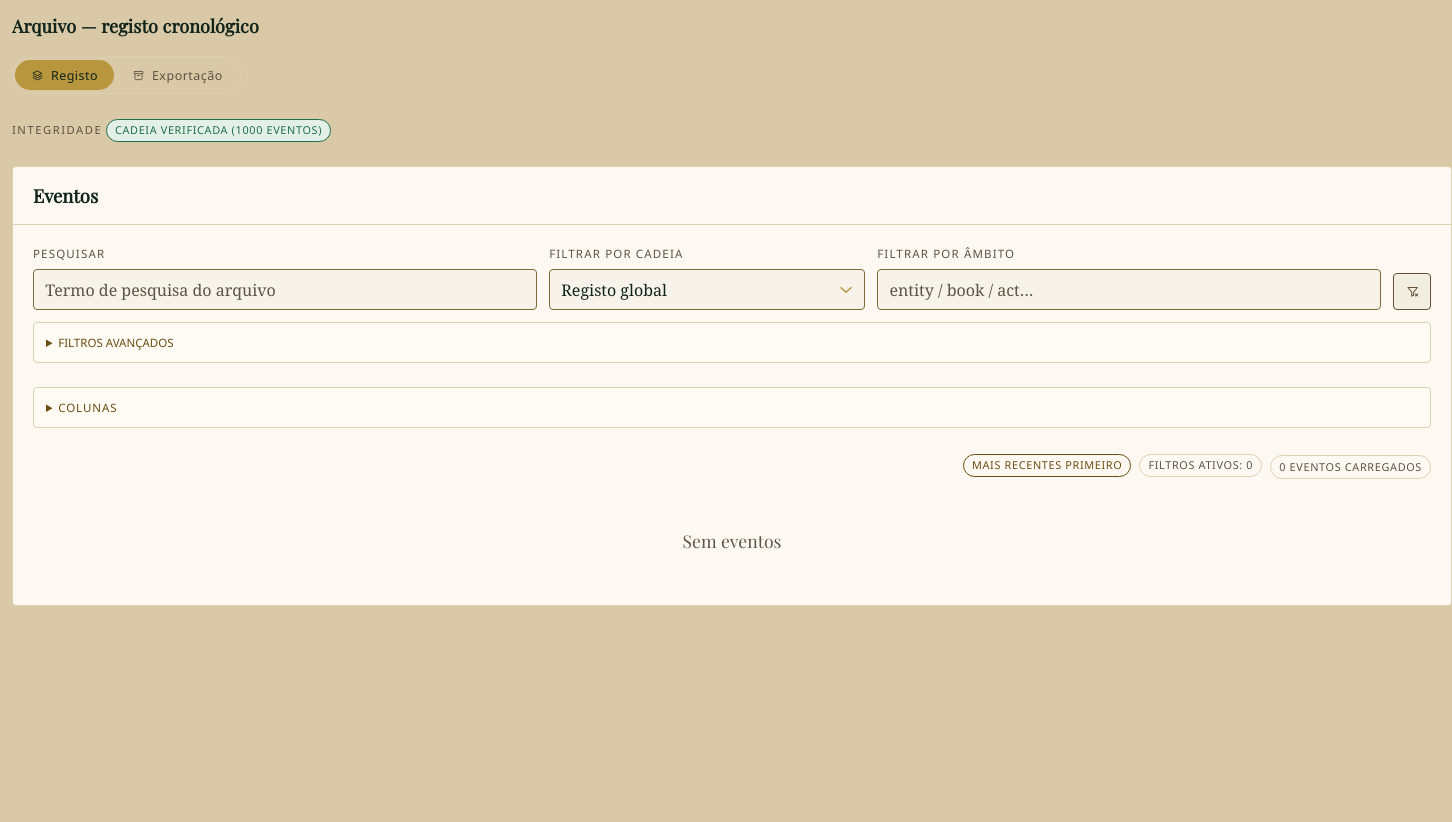
Test case: LedgerPage › shows a filtered empty state without losing the clear action
This screenshot has width=1452, height=822.
Expected: the text "Sem eventos" is shown, [683, 529, 781, 552]
Click the heading "Filtros avançados" at (116, 342), box [58, 335, 174, 350]
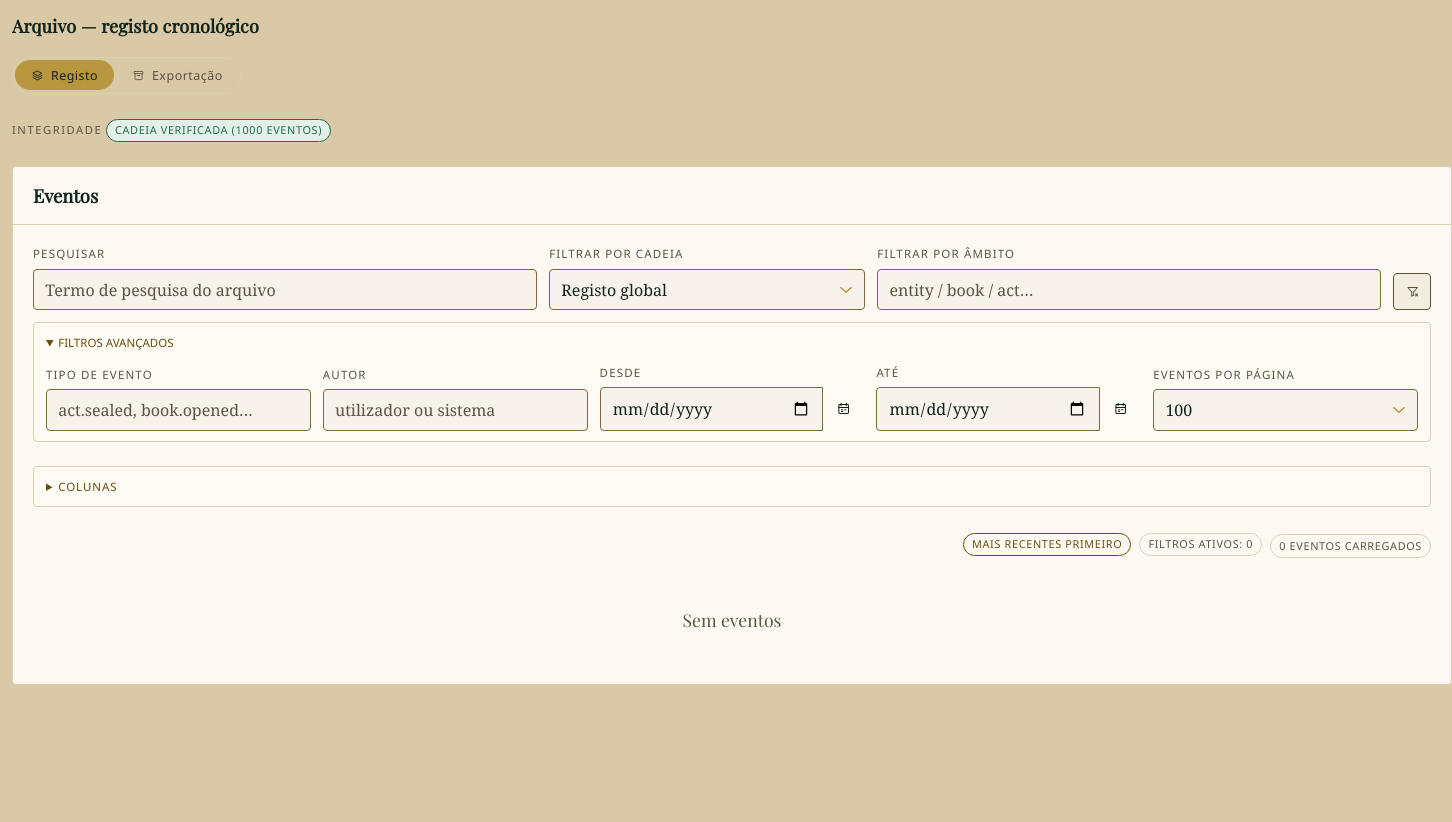
Type "nobody" into the field labelled "Autor" at (455, 410), box [323, 389, 588, 431]
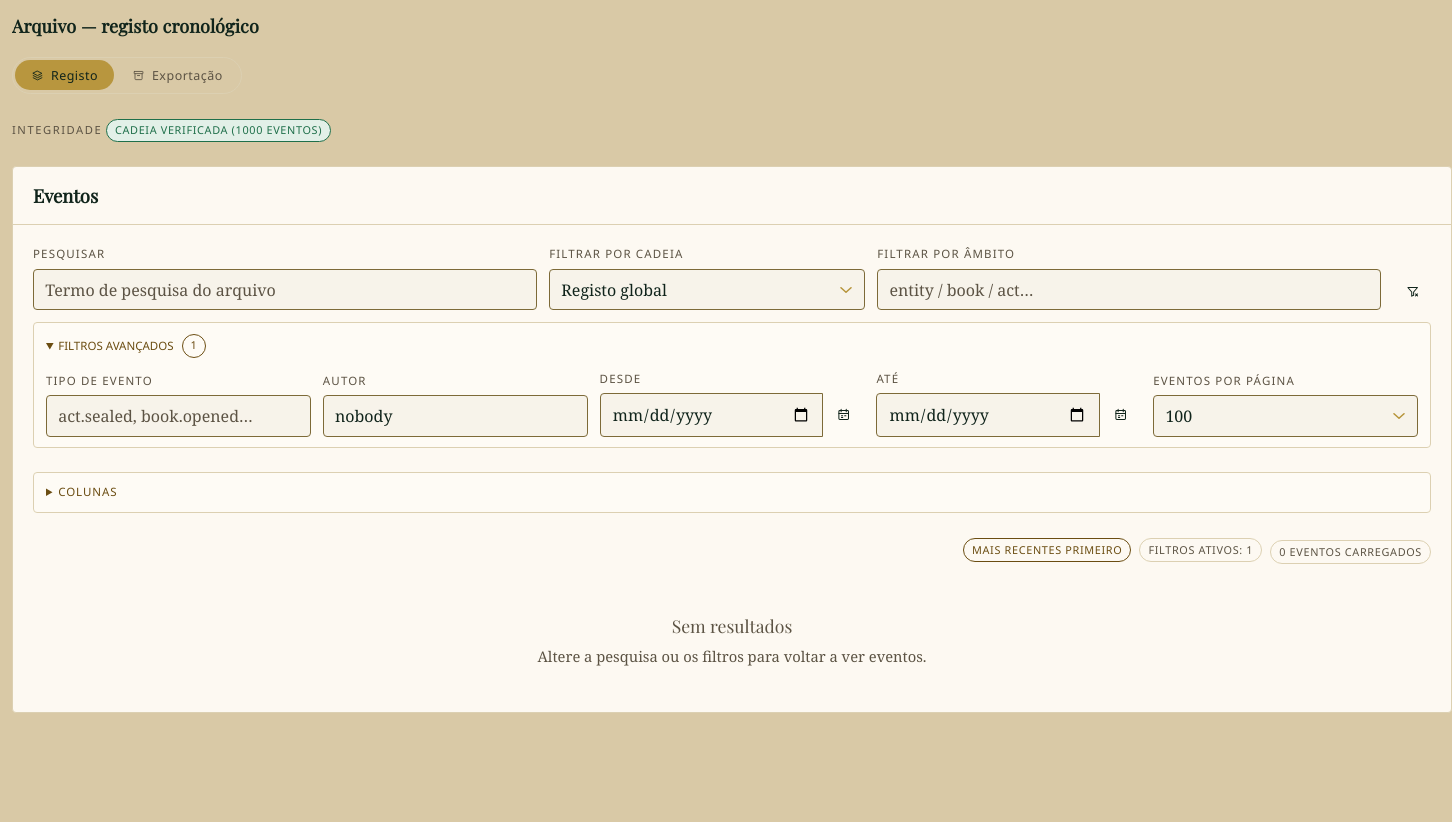
Result: the text "Sem resultados" is shown at [672, 614, 792, 637]
Result: the text "Altere a pesquisa ou os filtros para voltar a ver eventos." is shown at [538, 646, 927, 666]
Result: the button named "Limpar filtros do arquivo" is enabled at [1393, 273, 1431, 310]
